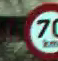Speed limit: (23, 1, 57, 57)
